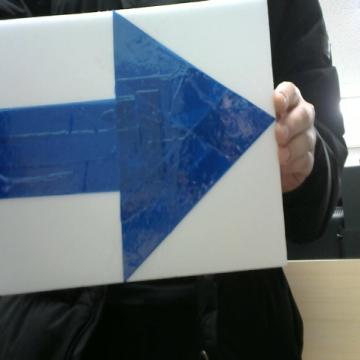blue_right: (0, 13, 273, 279)
